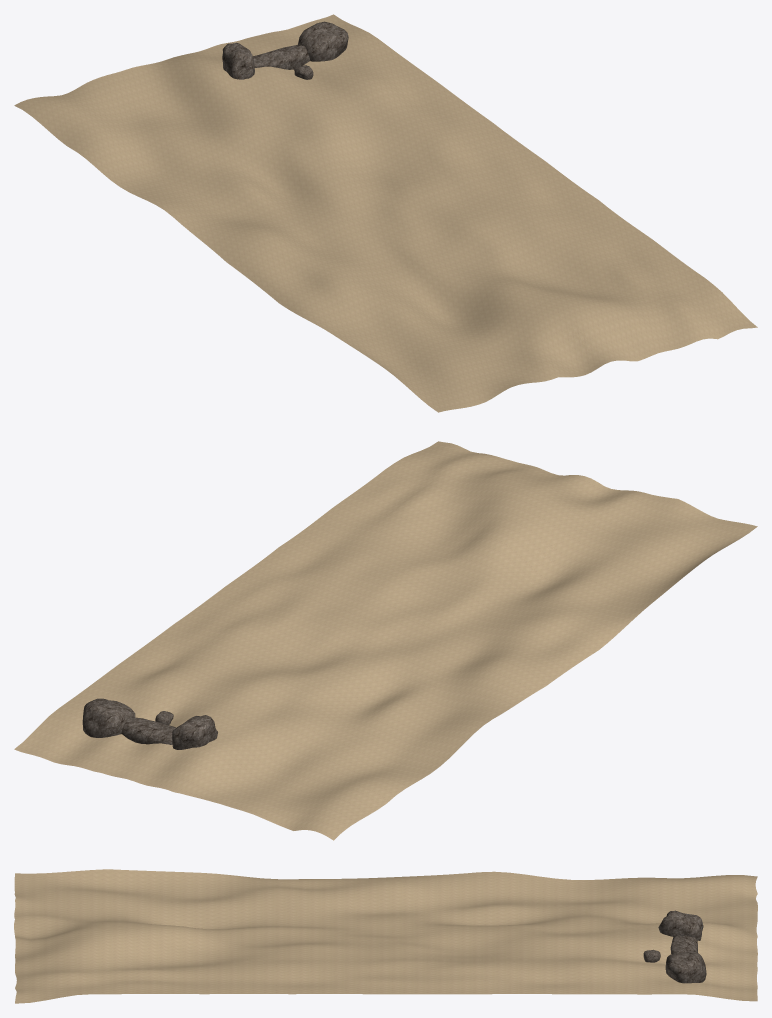
File: ROAD_Beach.obj
3 renders of one model, top to bottom at view 1: azimuth 30°, elevation 25°; view 2: azimuth 150°, elevation 25°; view 3: azimuth 270°, elevation 25°, orthographic. The views are drawn at different scales.
Parts seen in each view (by area): view 1: ROAD_Beach Mesh; view 2: ROAD_Beach Mesh; view 3: ROAD_Beach Mesh.
Part boxes in pixels (left/top/right/bottom): ROAD_Beach Mesh: left=14, top=14, right=757, bottom=412; ROAD_Beach Mesh: left=14, top=441, right=757, bottom=840; ROAD_Beach Mesh: left=14, top=869, right=757, bottom=1003.
Bounding box in the file's own units: 457 × 72.87 × 1051.
2 materials, 2 textured.
